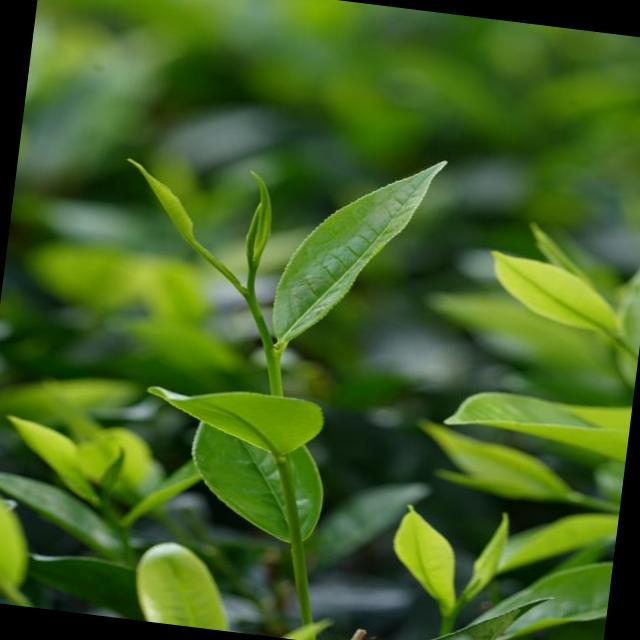Stem: (245, 293, 260, 312)
